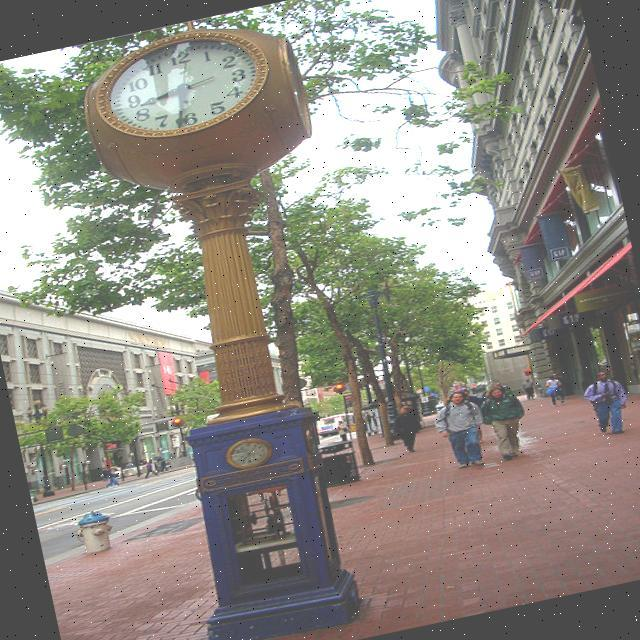fire_hydrant: (71, 508, 117, 554)
